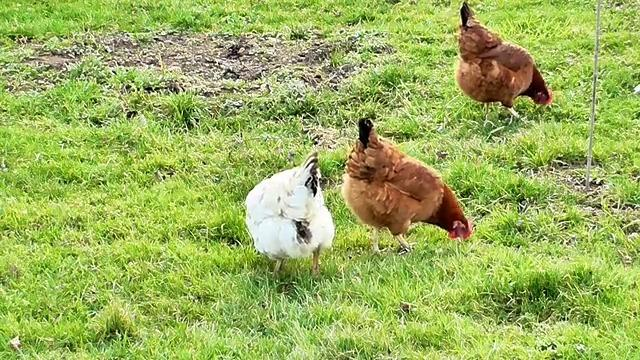Normal: (344, 121, 474, 249), (245, 151, 333, 281), (450, 8, 558, 104)
